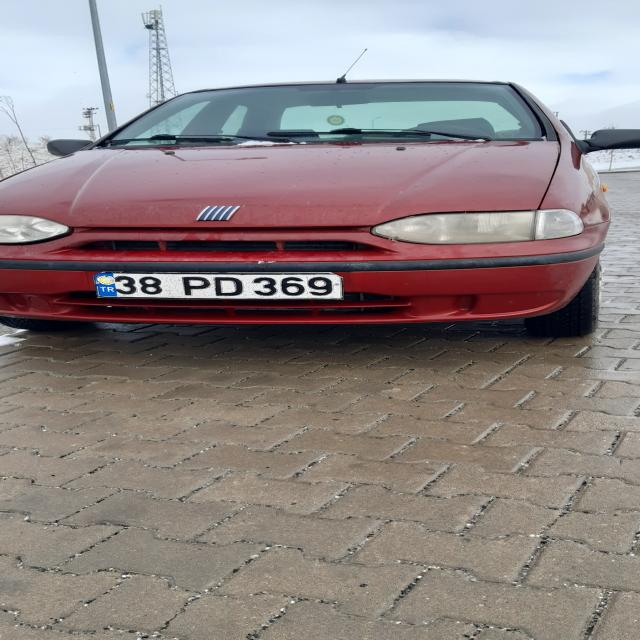license_plate: (94, 272, 344, 299)
